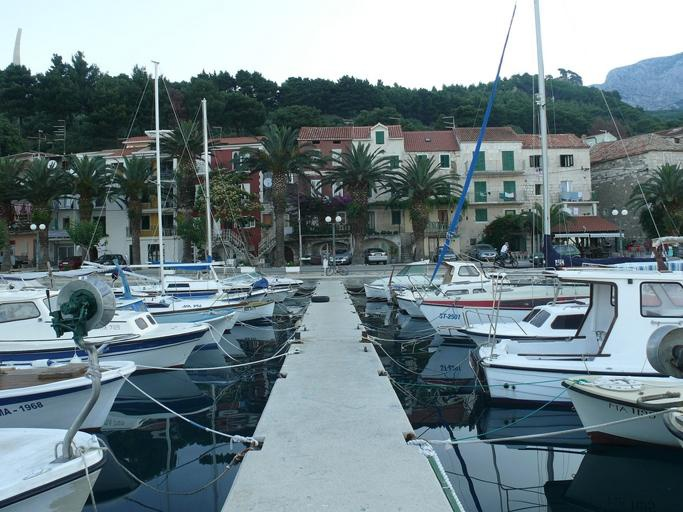non-vehicle: (493, 251, 518, 268), (326, 263, 348, 276)
